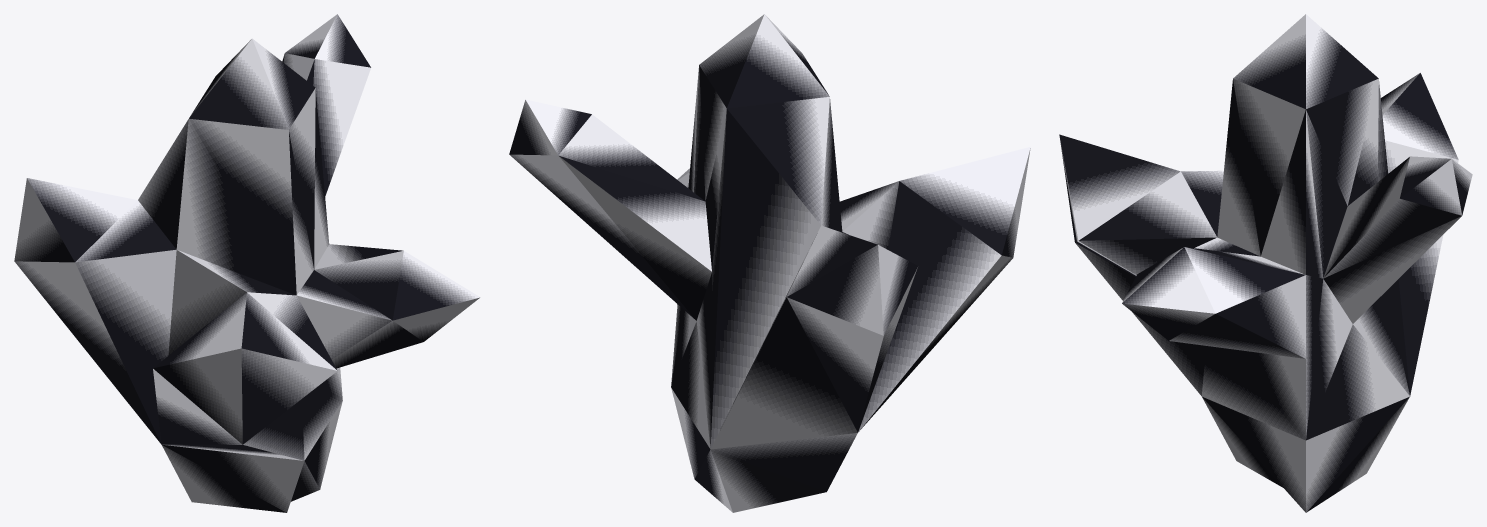
The model's file is crystal.glb.
3 renders of one model, left to right at view 1: azimuth 30°, elevation 25°; view 2: azimuth 150°, elevation 25°; view 3: azimuth 270°, elevation 25°, orthographic. The views are drawn at different scales.
Visible parts, largest first — view 1: crystal; view 2: crystal; view 3: crystal.
Part boxes in pixels (bbox=[...]): crystal: bbox=[14, 14, 480, 512]; crystal: bbox=[509, 14, 1030, 512]; crystal: bbox=[1059, 14, 1472, 512].
Size of the model in its own units: 0.5361 by 0.7023 by 0.5571.
Materials: 1 (1 with a texture image).
